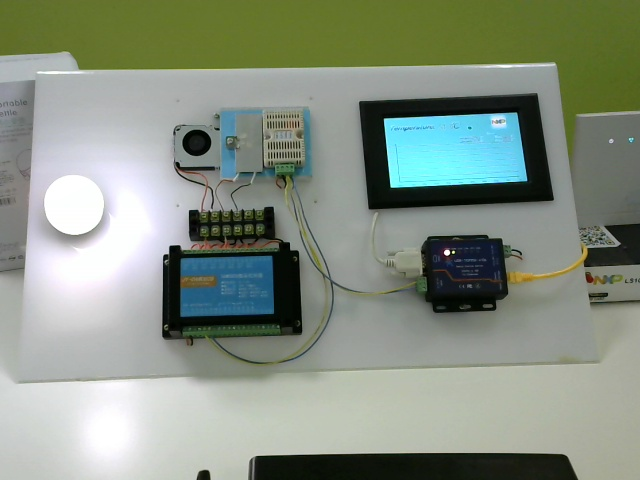fan: (170, 117, 223, 177)
heater: (231, 112, 265, 181)
modbus bridge: (425, 231, 521, 325)
relay: (159, 236, 308, 351)
termperature: (262, 105, 308, 177)
